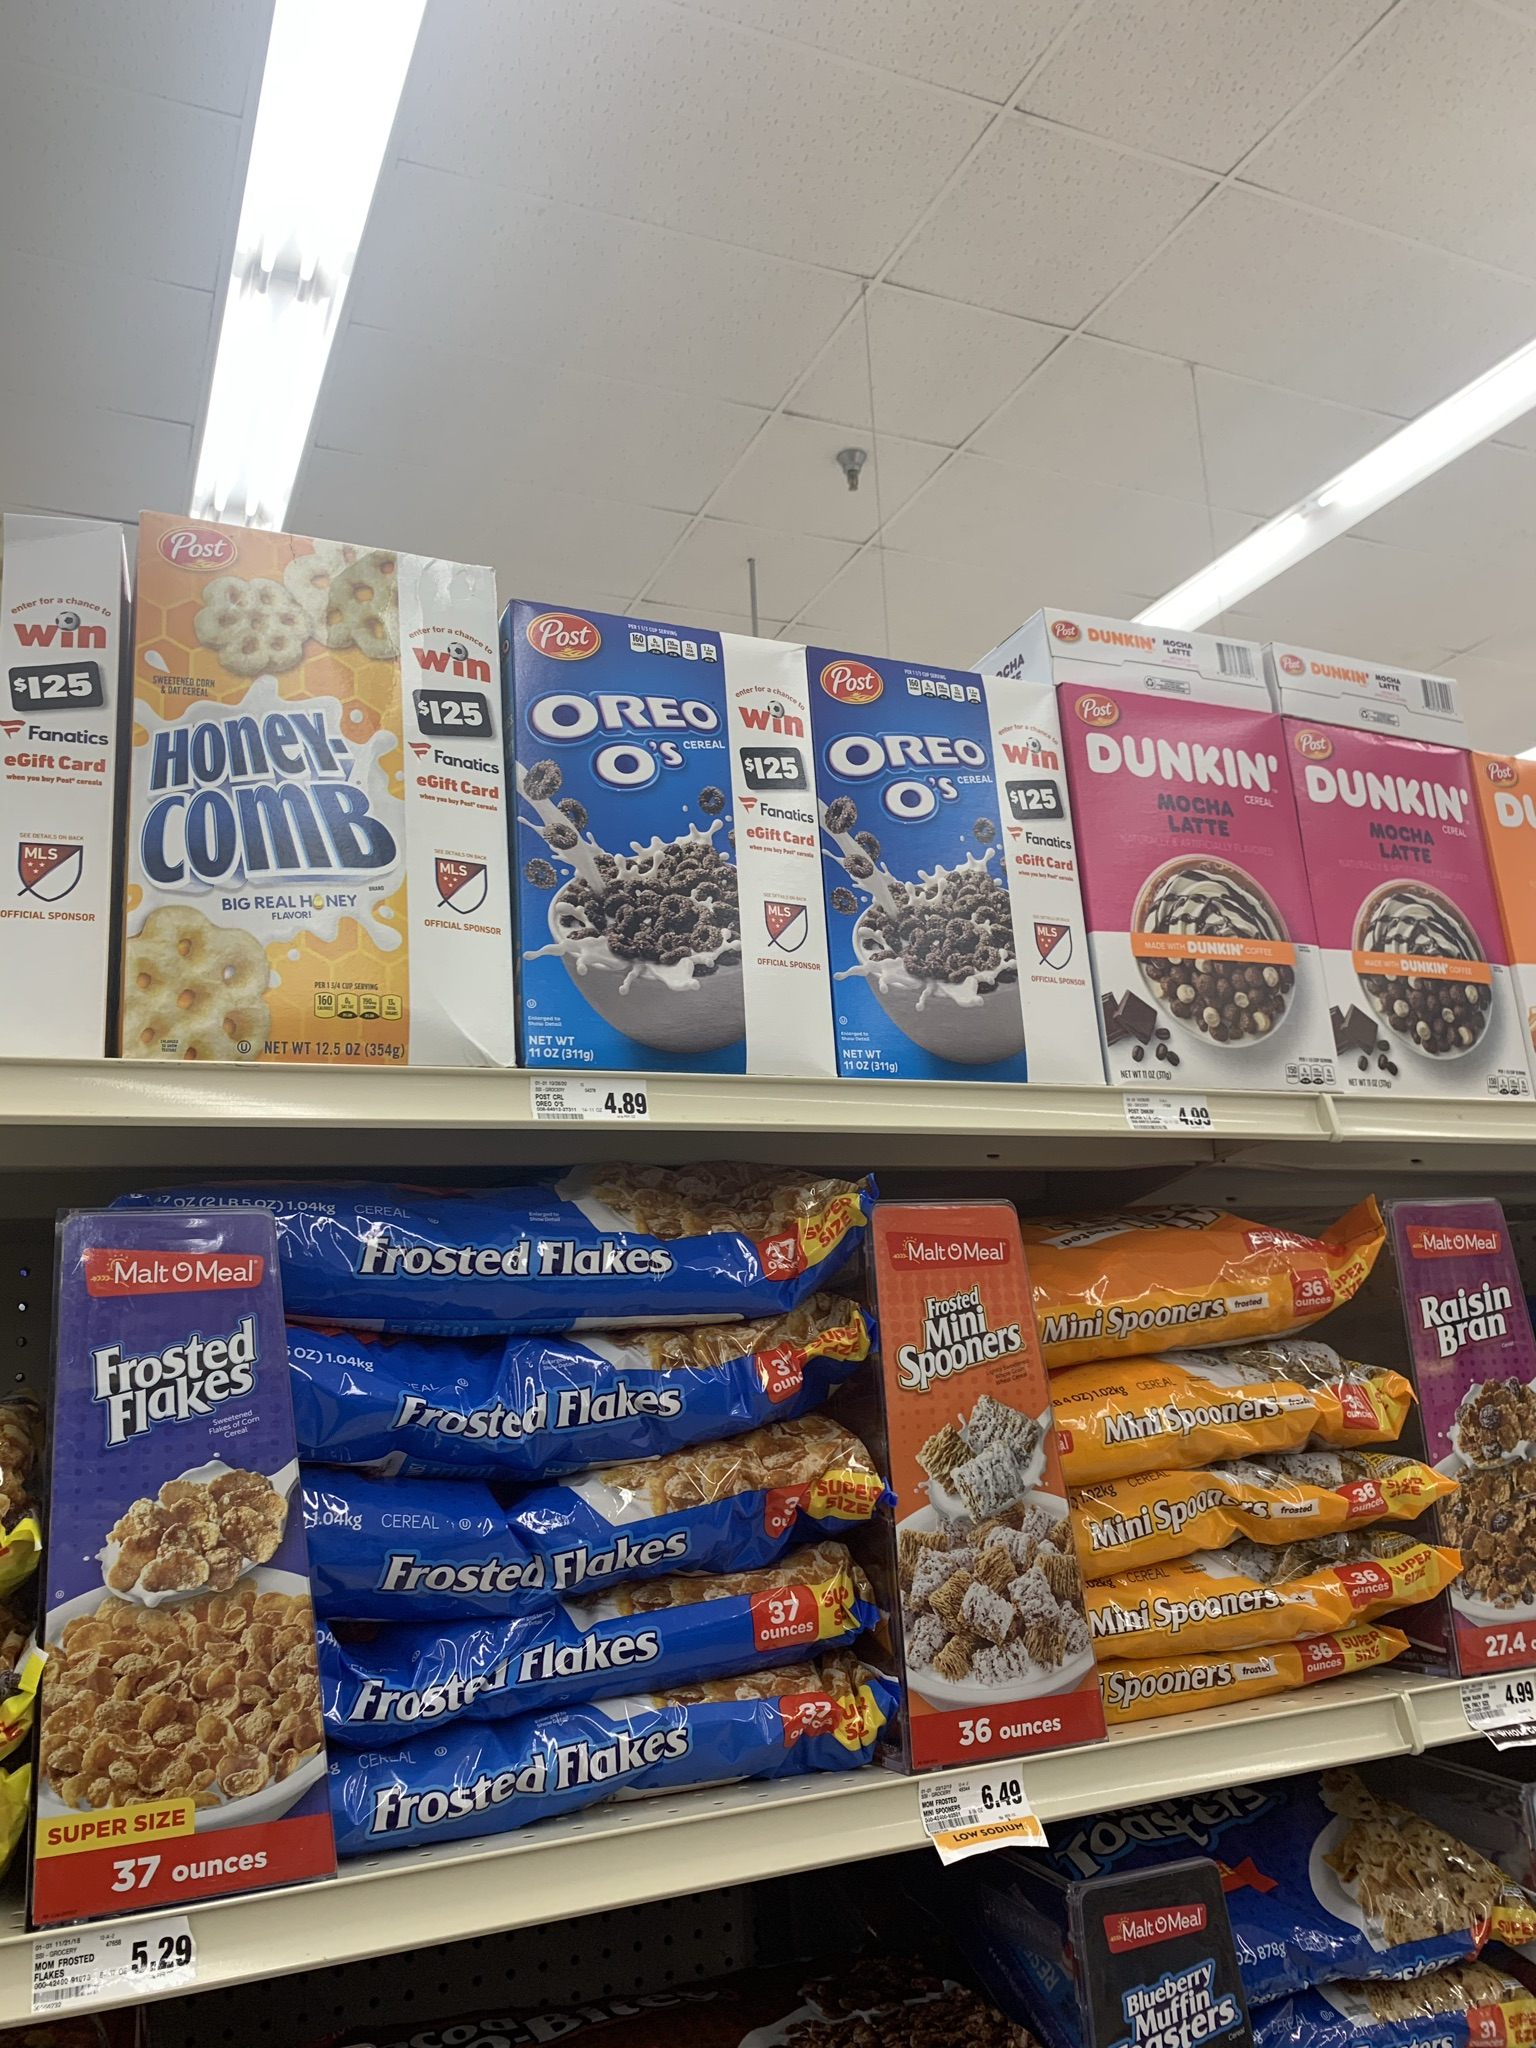box: (145, 584, 481, 1061), (520, 634, 807, 1072), (816, 697, 1044, 1084), (1091, 726, 1292, 1076), (1331, 748, 1502, 1093)
